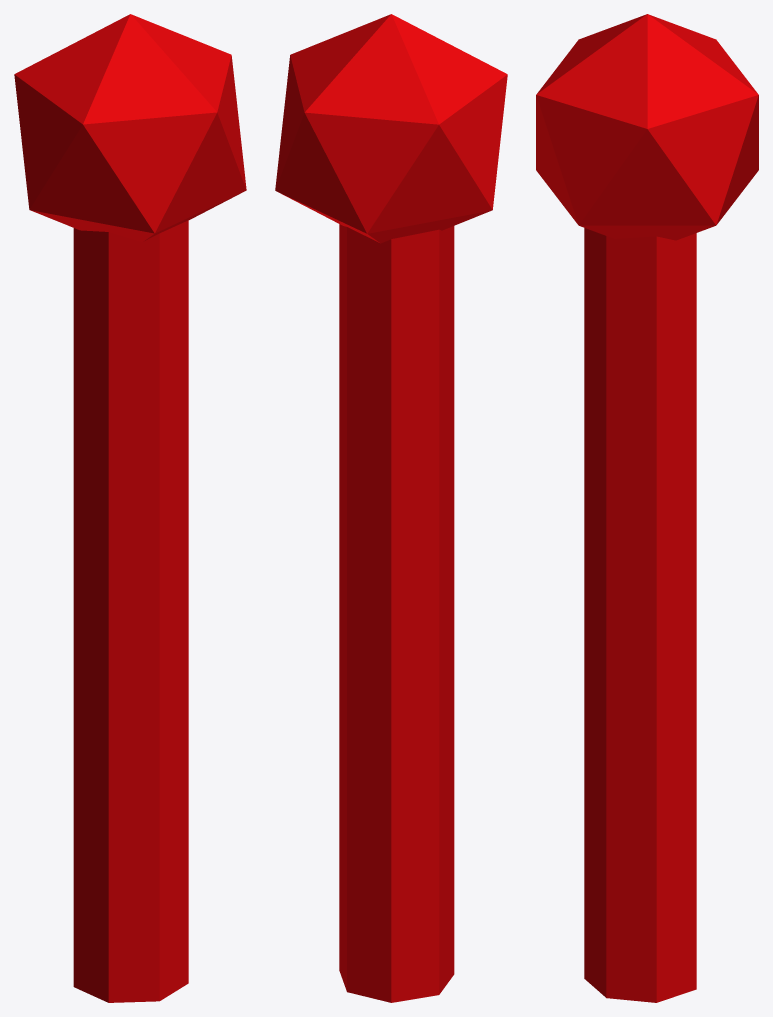
Rendered from Work_Shop_Lever red.fbx.
The picture shows the model from 3 angles, left to right: view 1: azimuth 30°, elevation 25°; view 2: azimuth 150°, elevation 25°; view 3: azimuth 270°, elevation 25°; orthographic projection.
Visible parts, largest first — view 1: Cylinder; view 2: Cylinder; view 3: Cylinder.
Boxes of the visible parts, x1,y1,x2,y2 form: Cylinder: (14, 14, 246, 1002); Cylinder: (275, 14, 507, 1002); Cylinder: (536, 14, 758, 1002).
Size of the model in its own units: 0.2388 by 1.09 by 0.2271.
